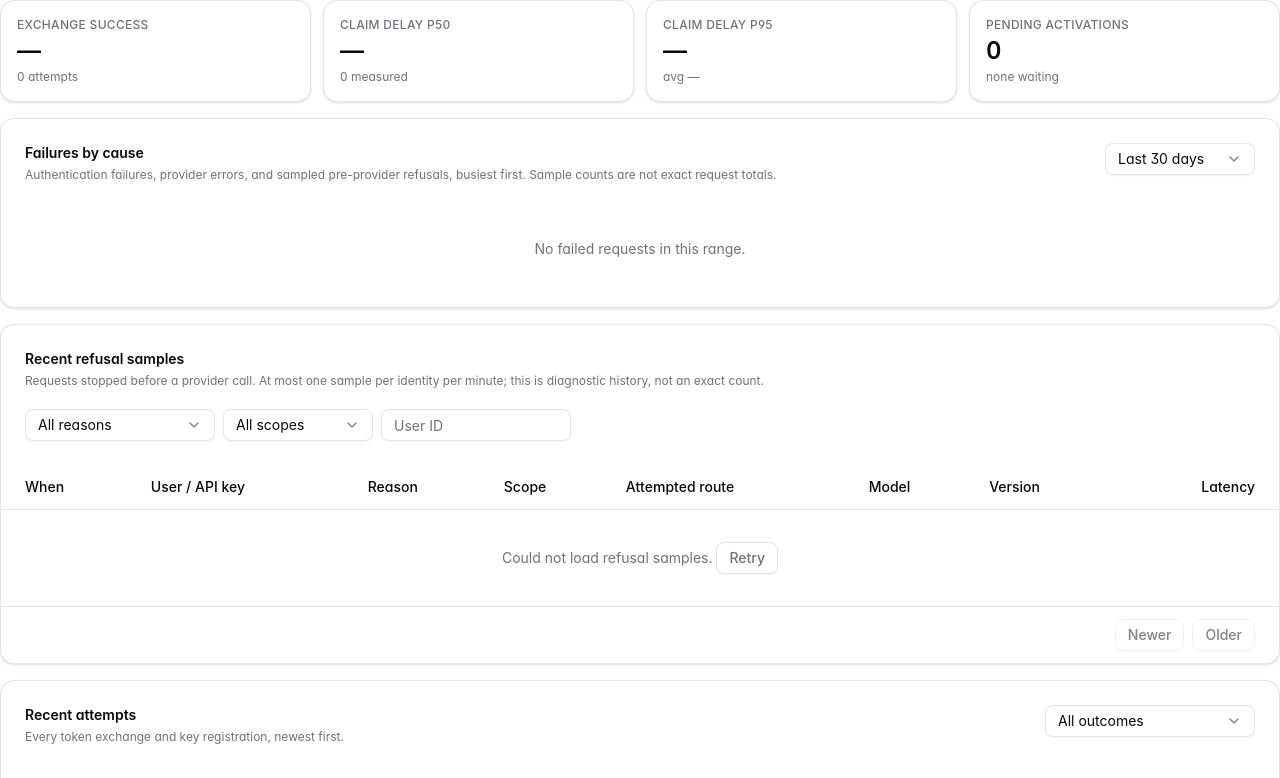
Test case: ErrorsTab › shows a retry when refusal samples cannot be loaded
The image size is (1280, 778).
Expected: the text "Could not load refusal samples. Retry" is shown, [1,509,1279,606]
Click the button "Retry". click: (747, 558)
box: [716,542,778,574]
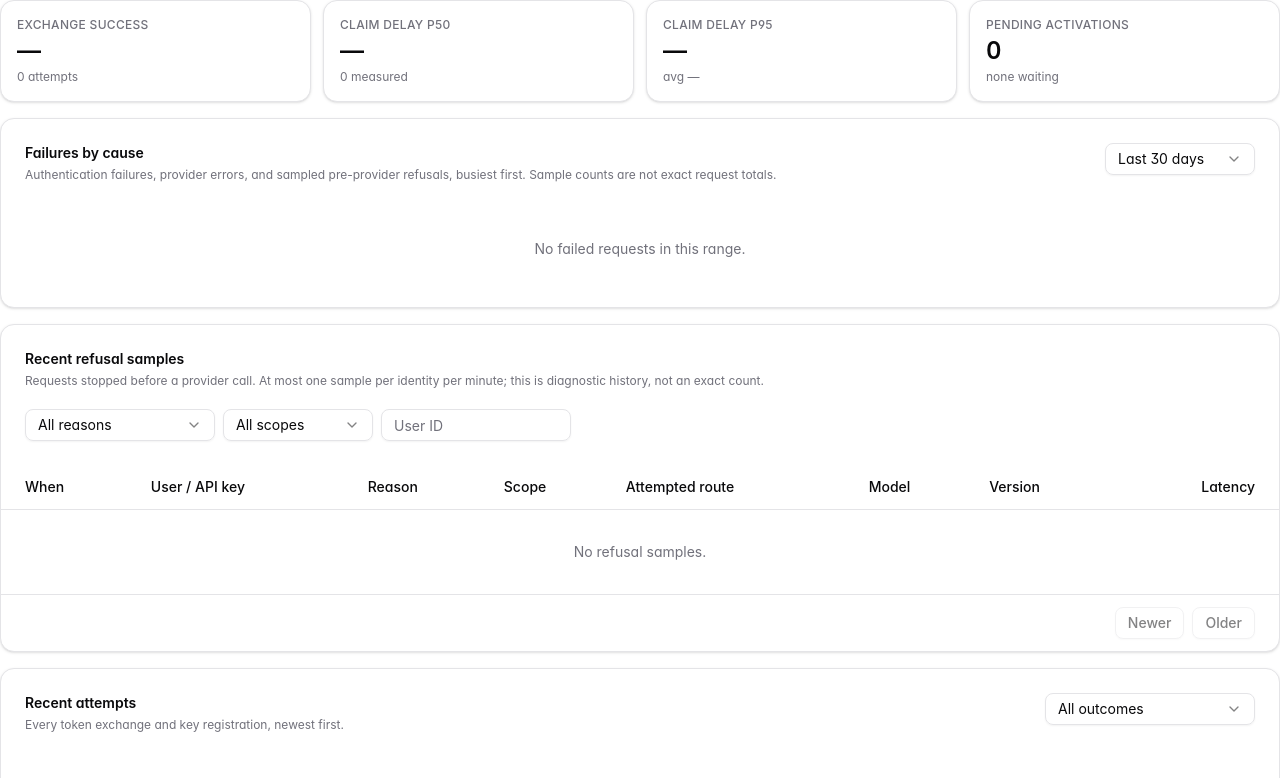
Expected: the text "No refusal samples." is shown, [1,509,1279,594]
